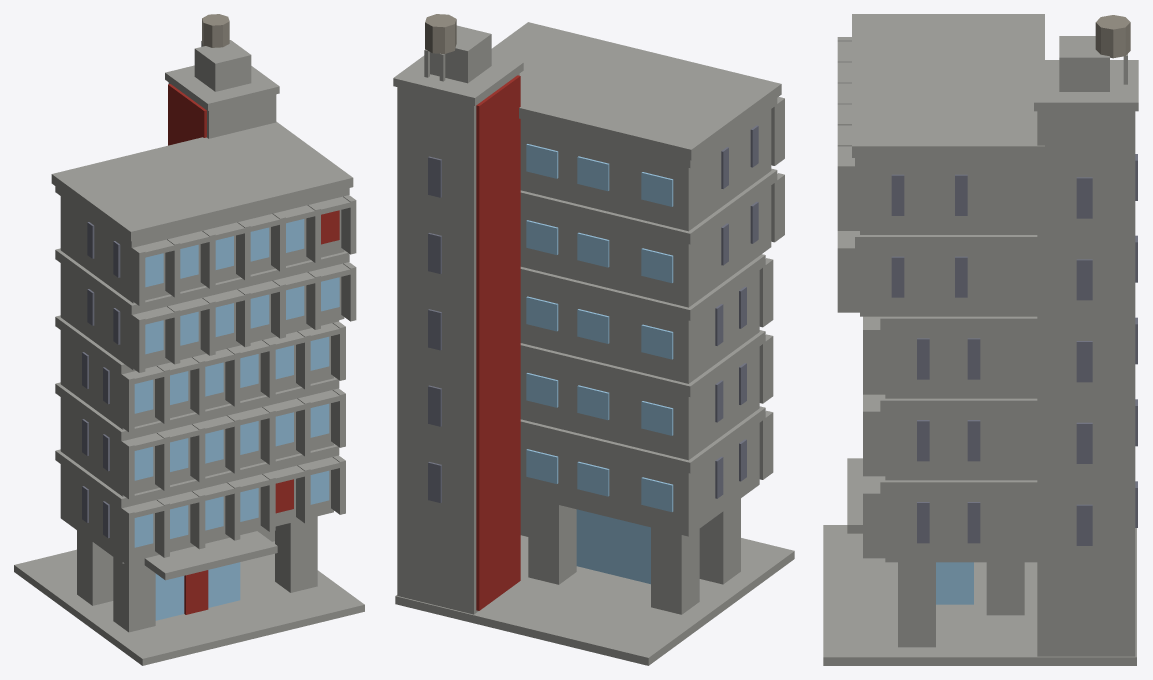
Rendered from tower-1x1-6f-brutalist-a.glb.
3 renders of one model, left to right at view 1: azimuth 30°, elevation 25°; view 2: azimuth 150°, elevation 25°; view 3: azimuth 270°, elevation 25°, orthographic. The views are drawn at different scales.
Visible parts, largest first — view 1: tower-1x1-6f-brutalist-a; view 2: tower-1x1-6f-brutalist-a; view 3: tower-1x1-6f-brutalist-a.
Boxes of the visible parts, x1=… form: tower-1x1-6f-brutalist-a: x1=14, y1=14, x2=364, y2=665; tower-1x1-6f-brutalist-a: x1=393, y1=14, x2=794, y2=665; tower-1x1-6f-brutalist-a: x1=823, y1=14, x2=1138, y2=665.
Size of the model in its own units: 0.995 by 2.18 by 0.995.
1 material, 1 textured.
